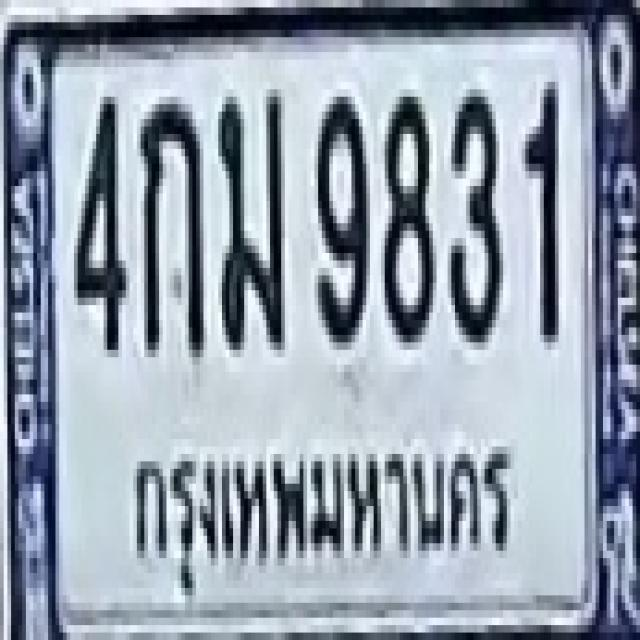1: (522, 82, 560, 345)
3: (448, 82, 503, 346)
4: (70, 90, 128, 362)
8: (381, 89, 436, 344)
9: (315, 88, 371, 343)
A01: (137, 96, 205, 360)
A33: (214, 82, 286, 351)
BKK: (125, 413, 509, 597)
